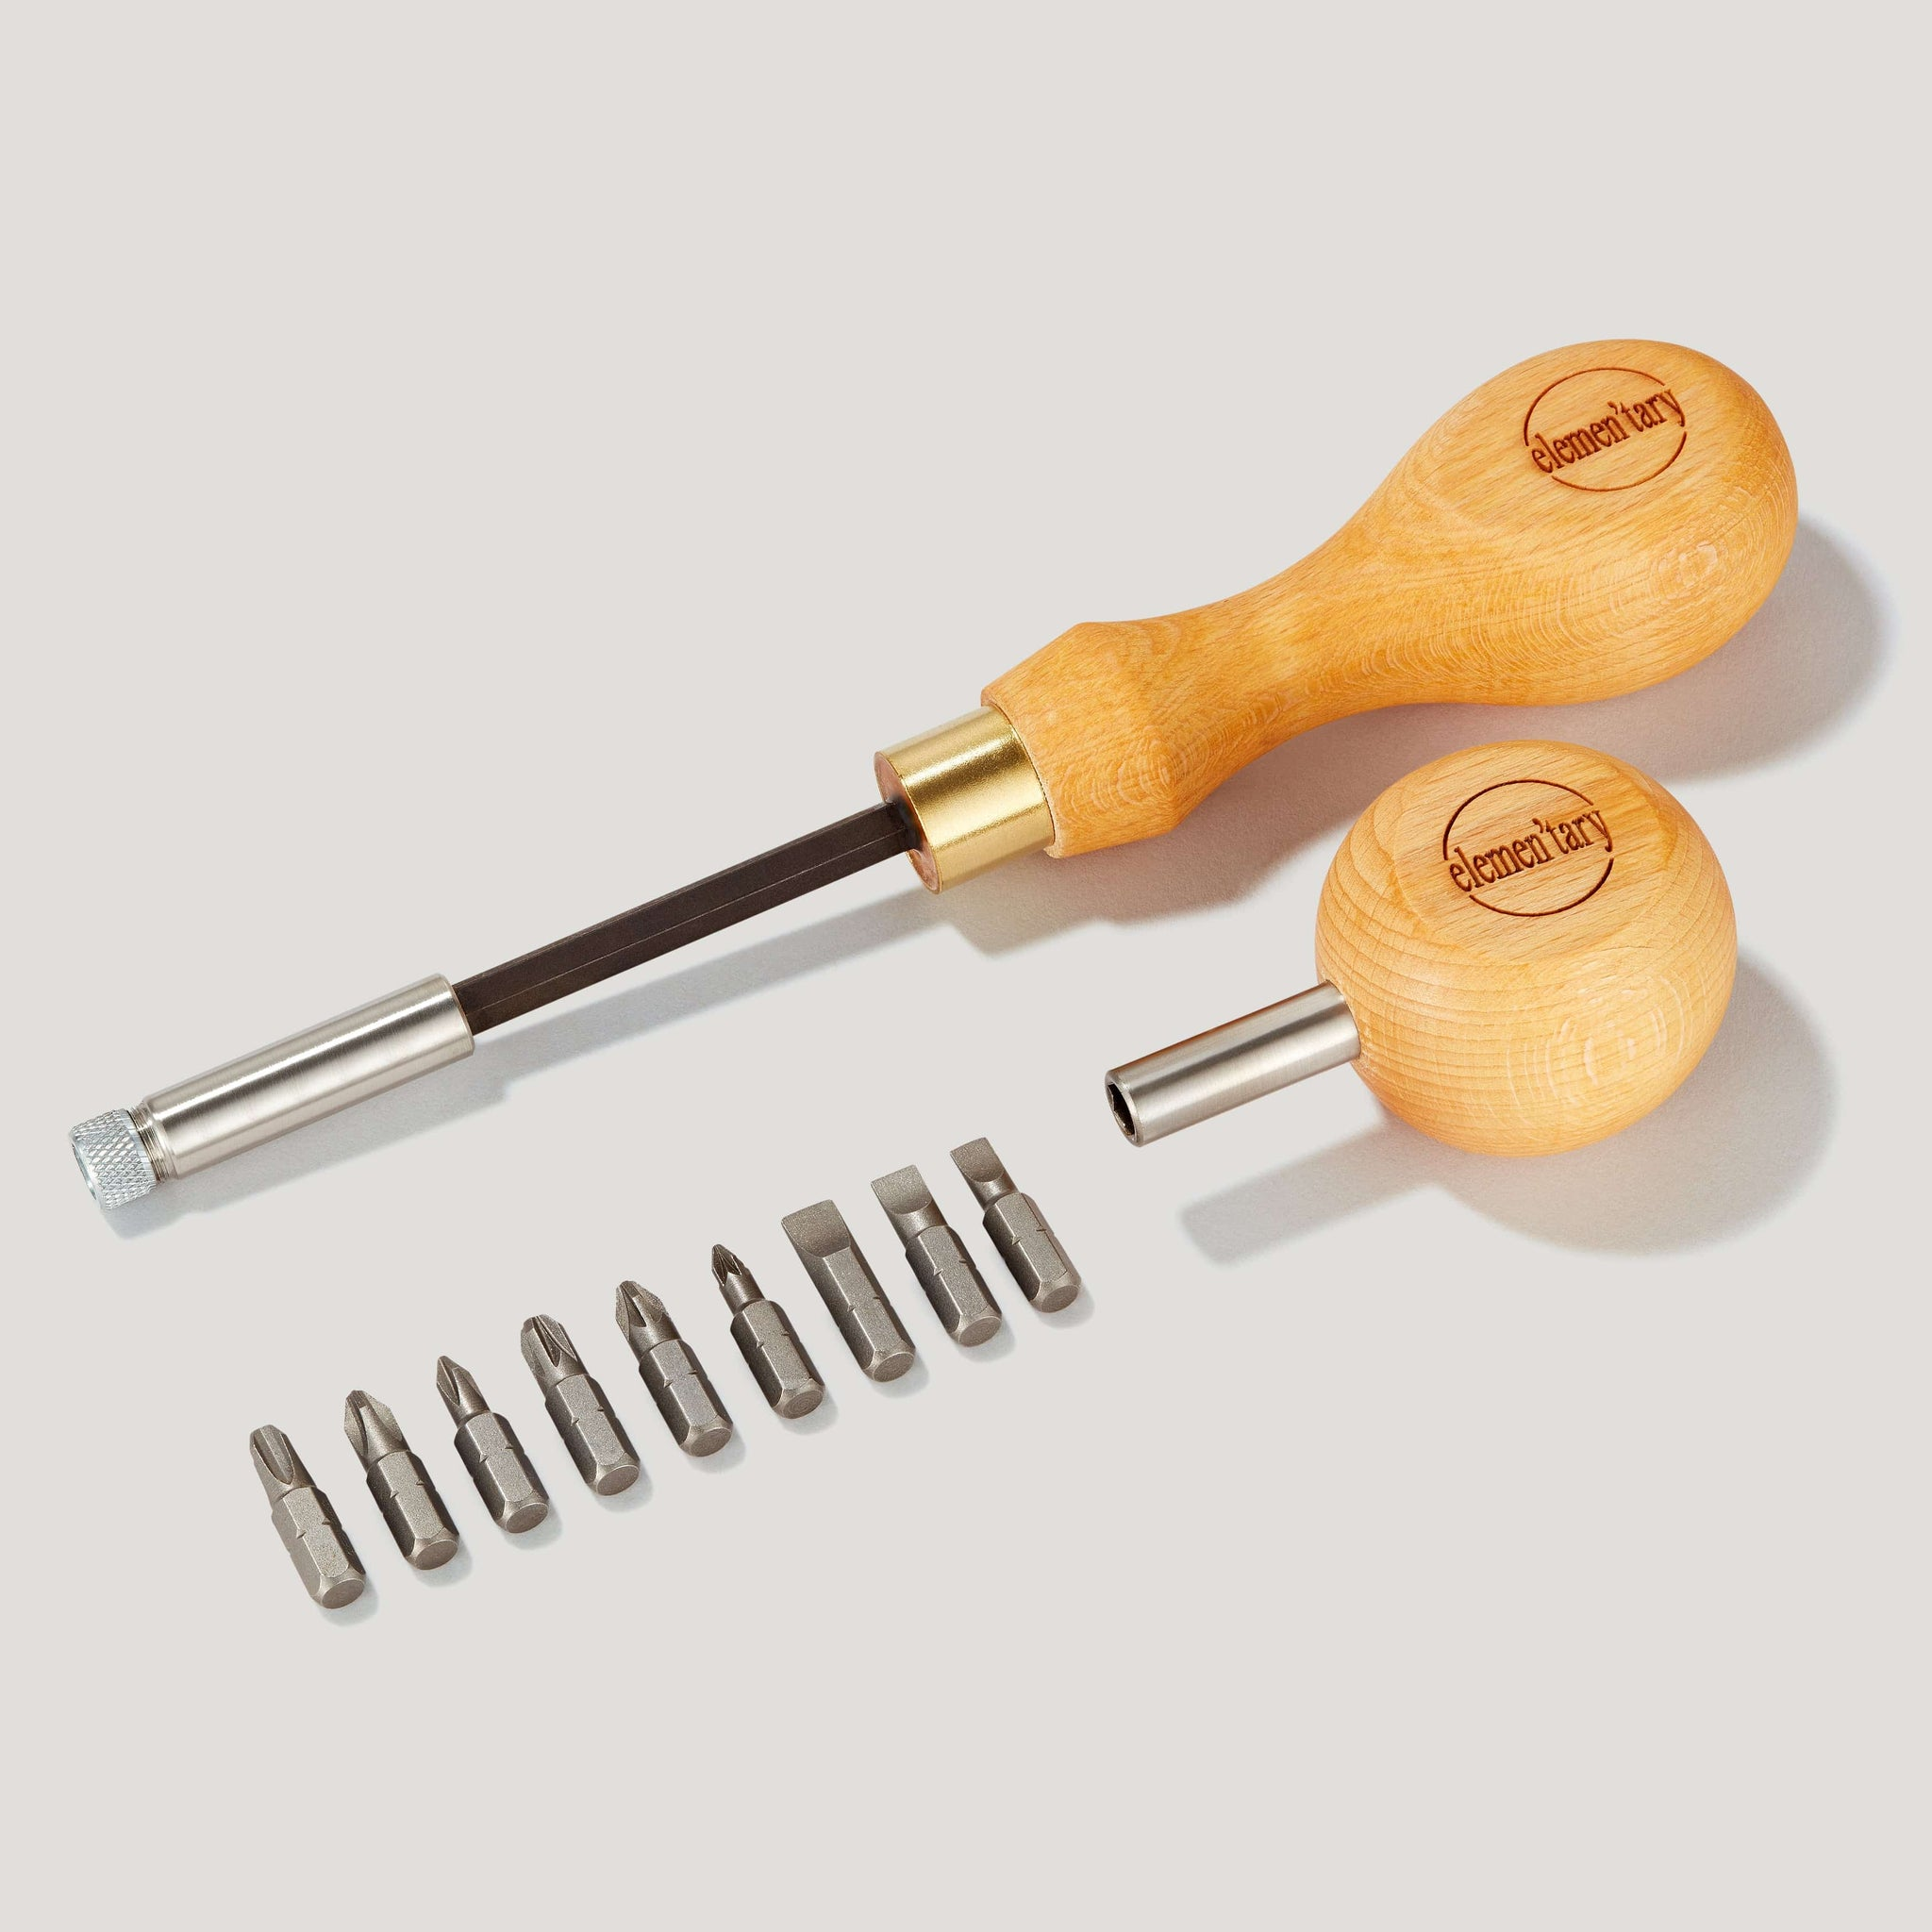screwdriver: (74, 333, 1789, 1221)
